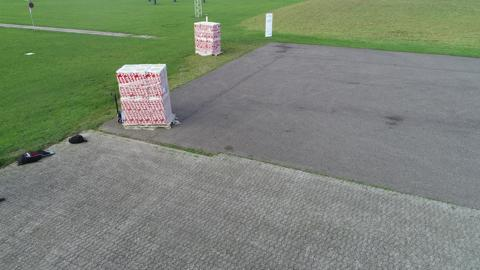RockwoolPallet: (116, 64, 175, 127)
